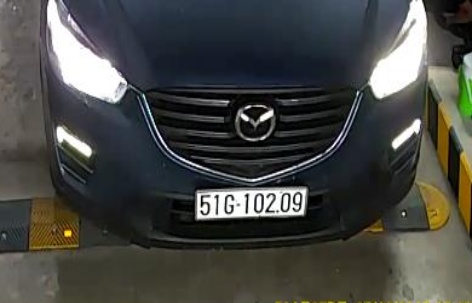plate: (192, 183, 319, 228)
